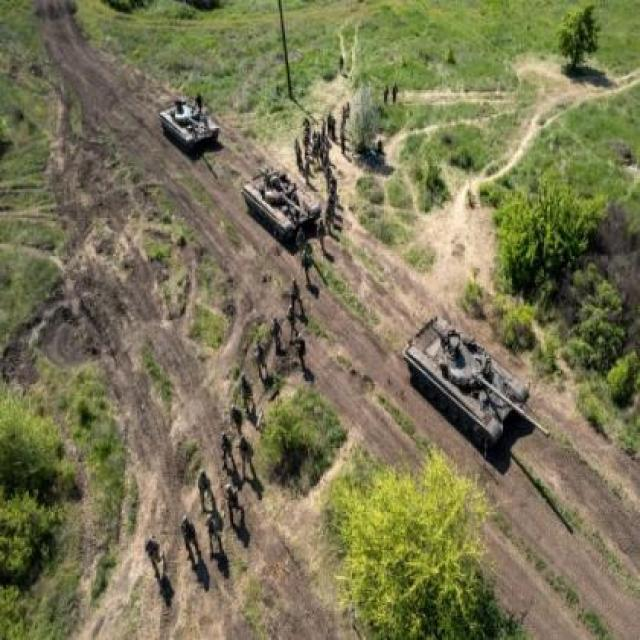tank: (400, 312, 551, 462), (241, 163, 323, 245), (158, 96, 217, 158)
